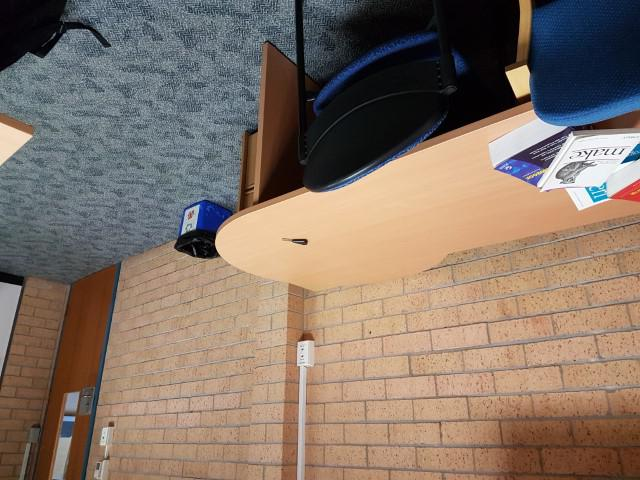key: (282, 236, 309, 247)
